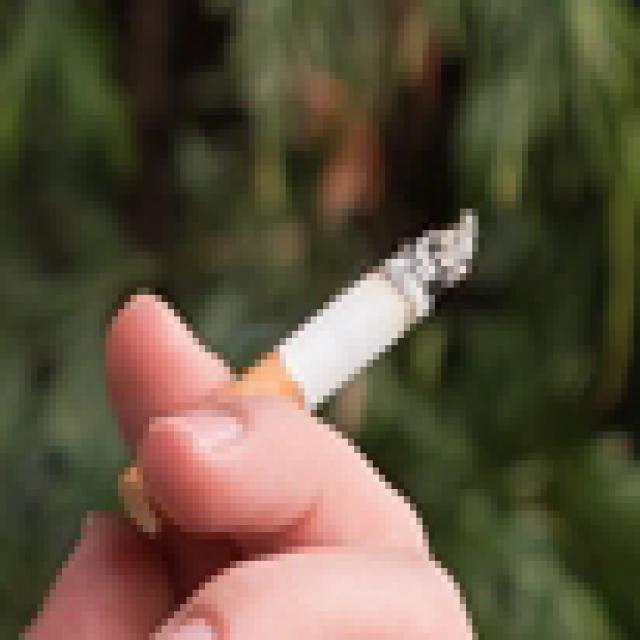smoking: (122, 210, 478, 540)
